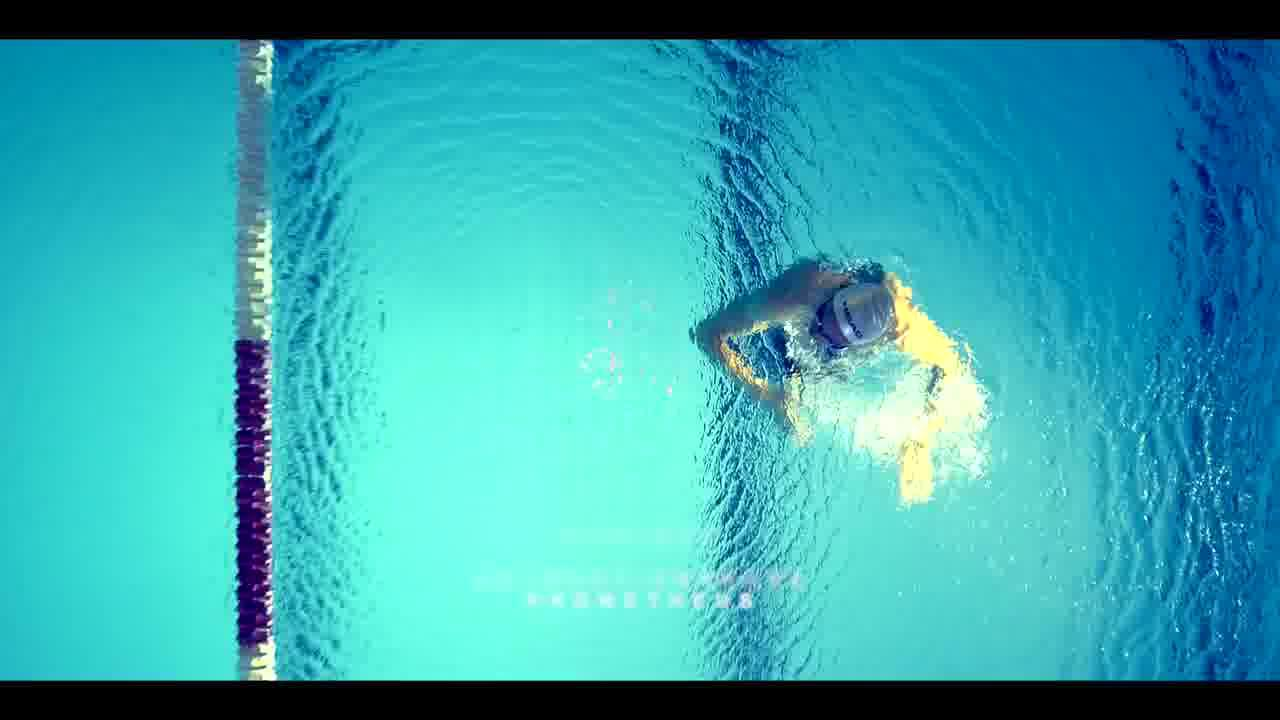swimmer: (665, 245, 998, 486)
